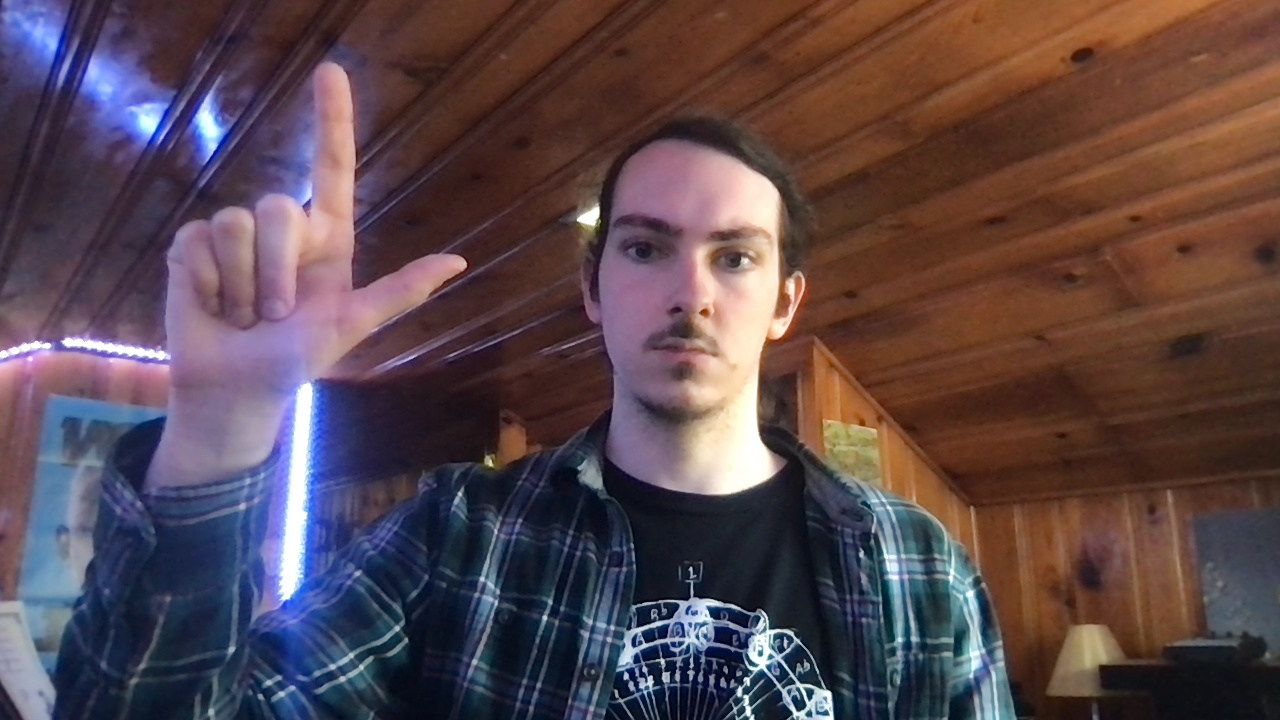l: (164, 58, 469, 399)
